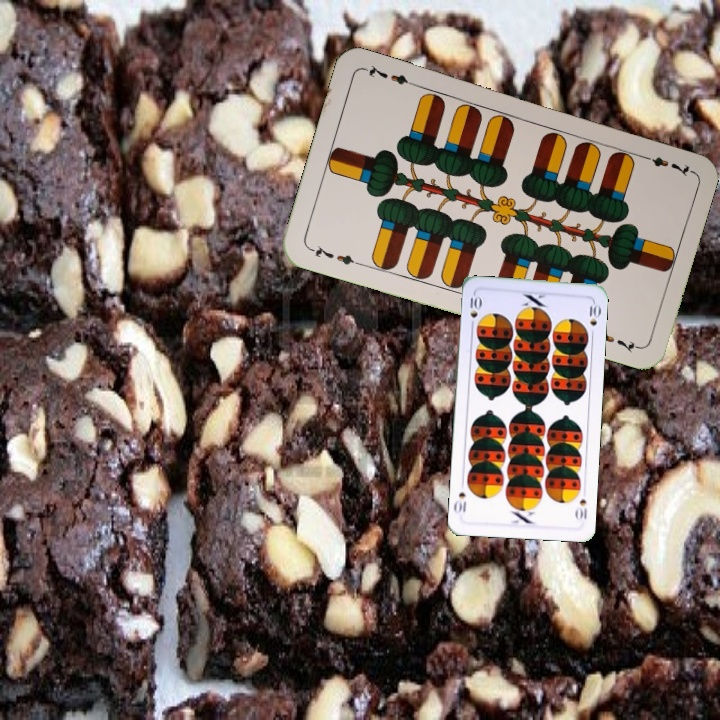E7: (636, 150, 694, 179), (305, 242, 363, 268)
S10: (466, 290, 482, 331), (572, 495, 590, 522)
